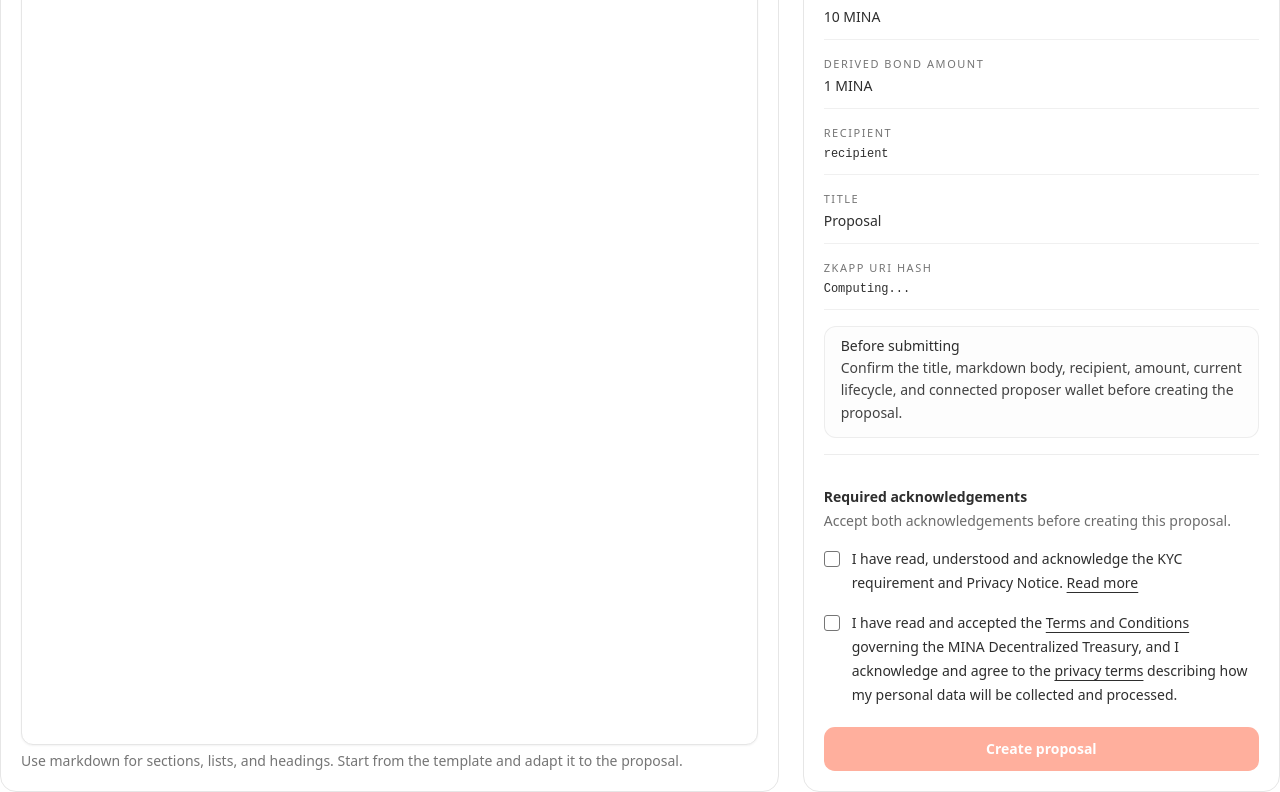
Test: TreasuryProposalCreationForm › submits only proposal fields after both acknowledgements and resets acceptance
This screenshot has width=1280, height=792.
(page scrolled)
Click the checkbox labelled "I have read, understood and acknowledge the KYC requirement and Privacy Notice." at (832, 559), box [824,551,840,567]
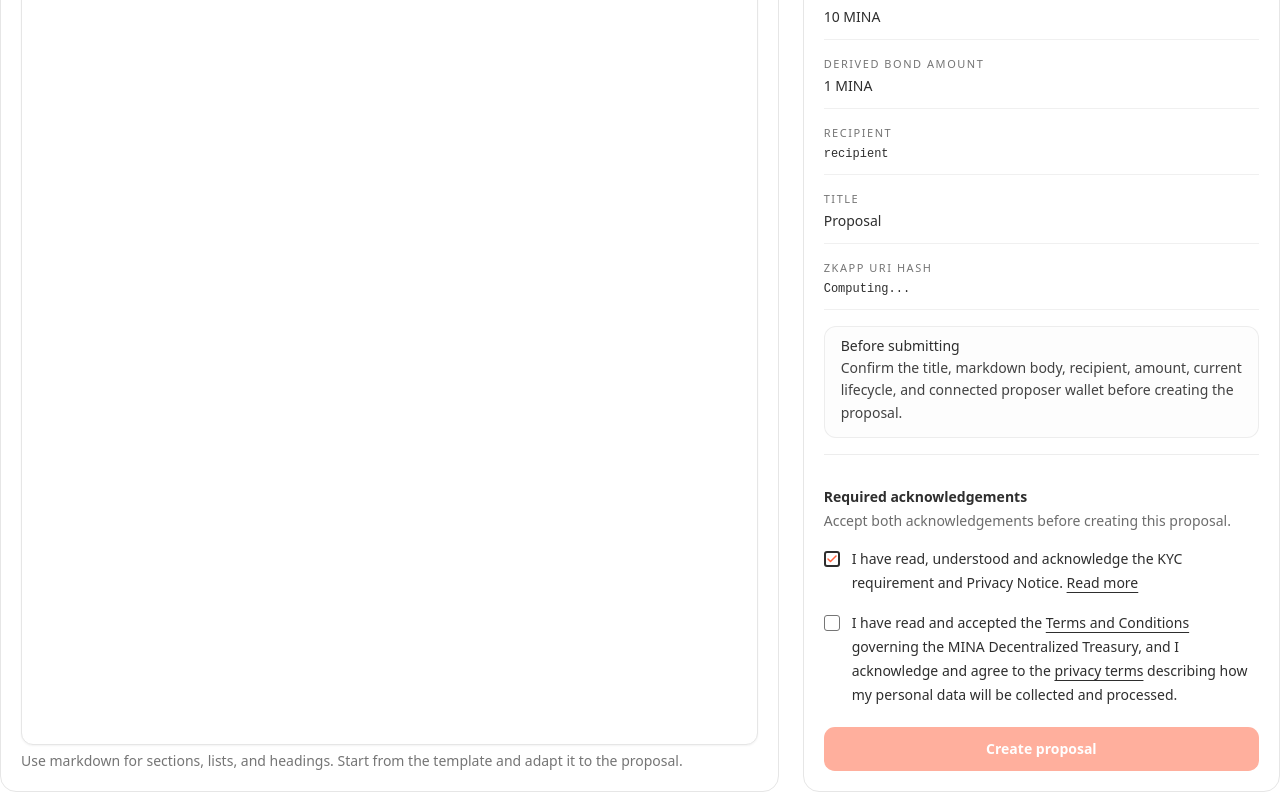
Click the 2nd checkbox at (832, 623), box [824,615,840,631]
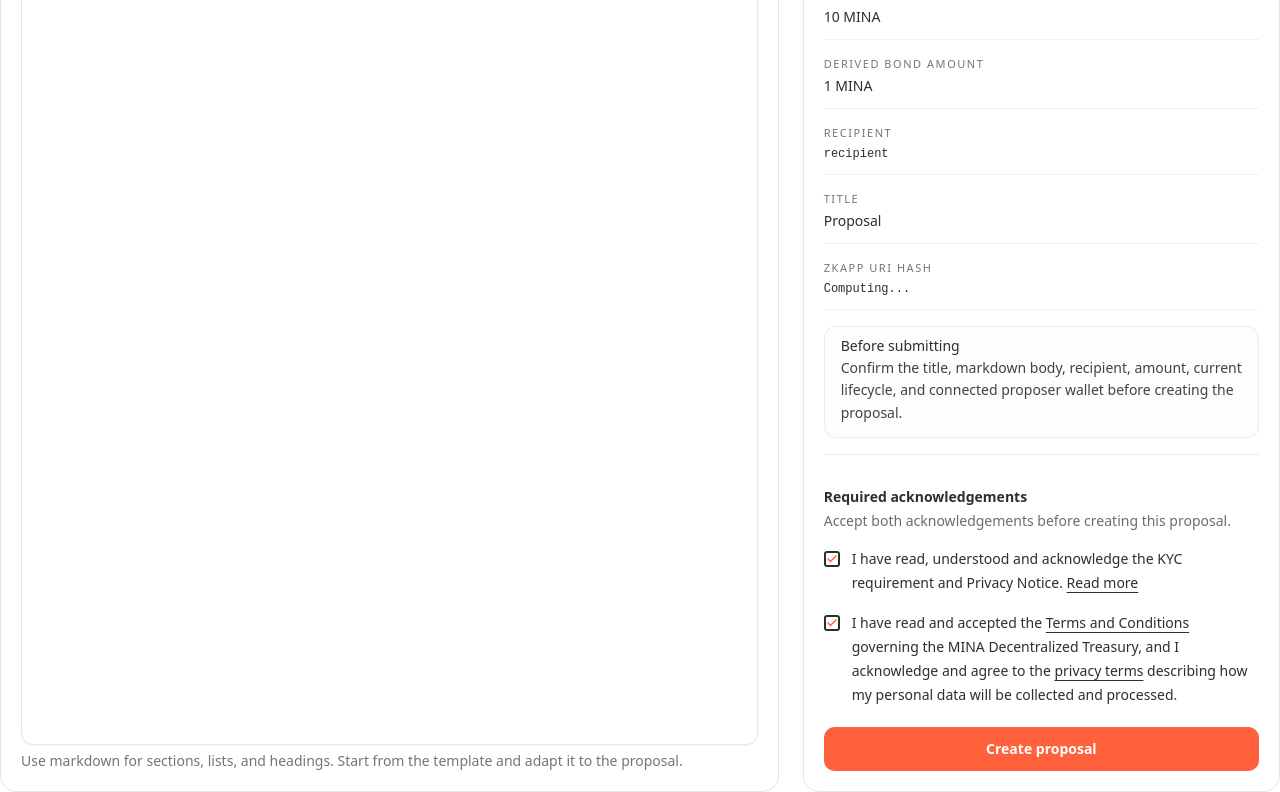
Expected: the button "Create proposal" is enabled
Click the button "Create proposal" at (1041, 749), box [824,727,1259,771]
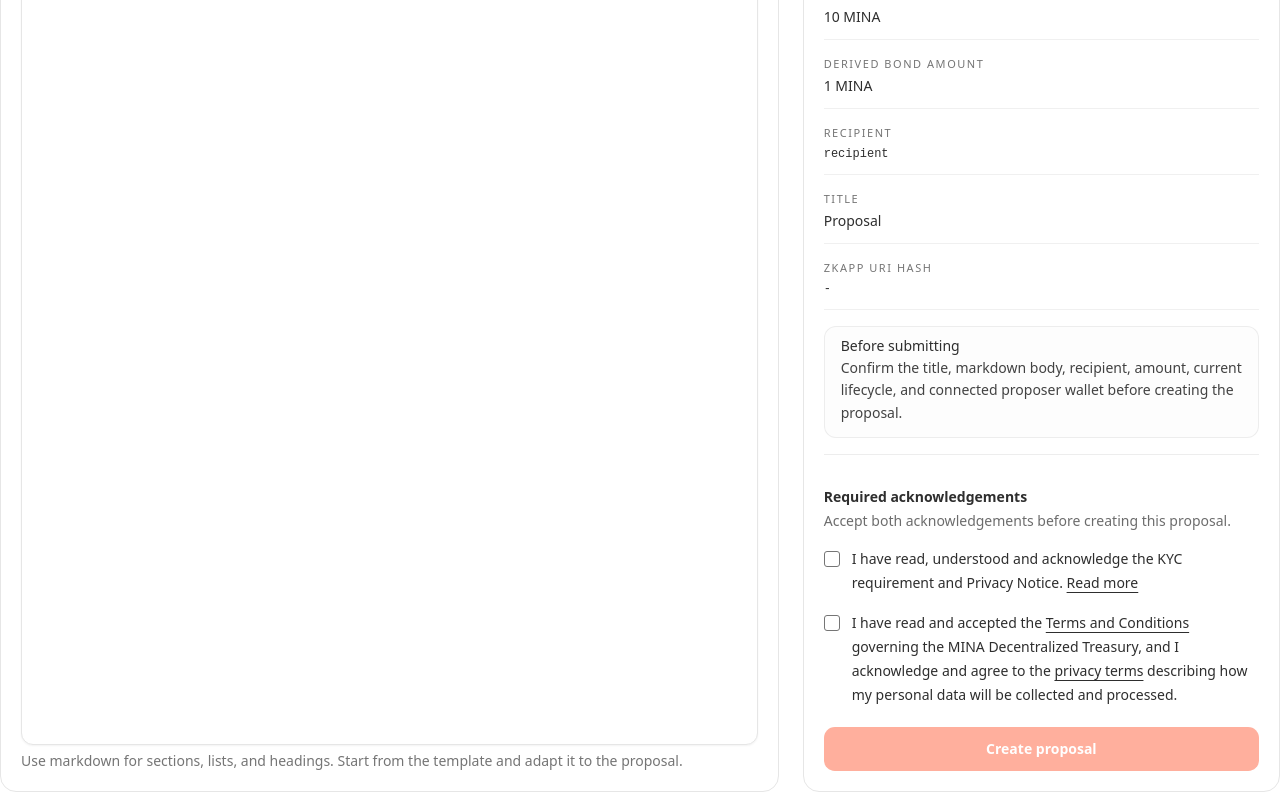
Expected: the button "Create proposal" is disabled, [824,727,1259,771]
